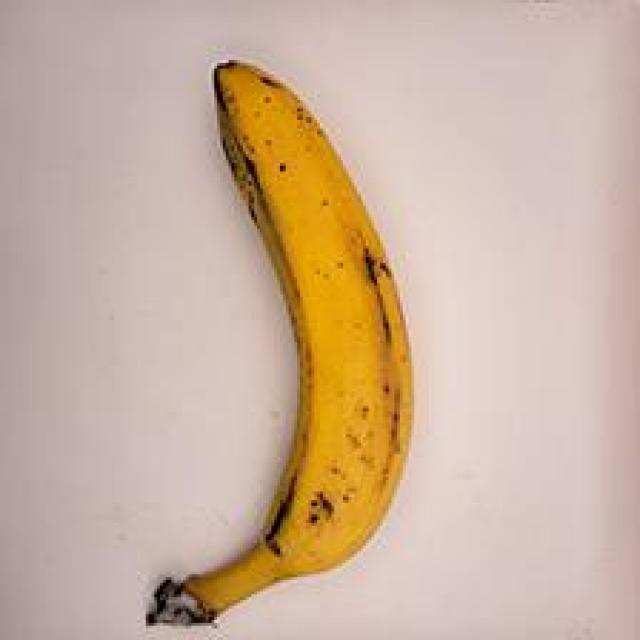Overripe: (114, 46, 439, 627)
